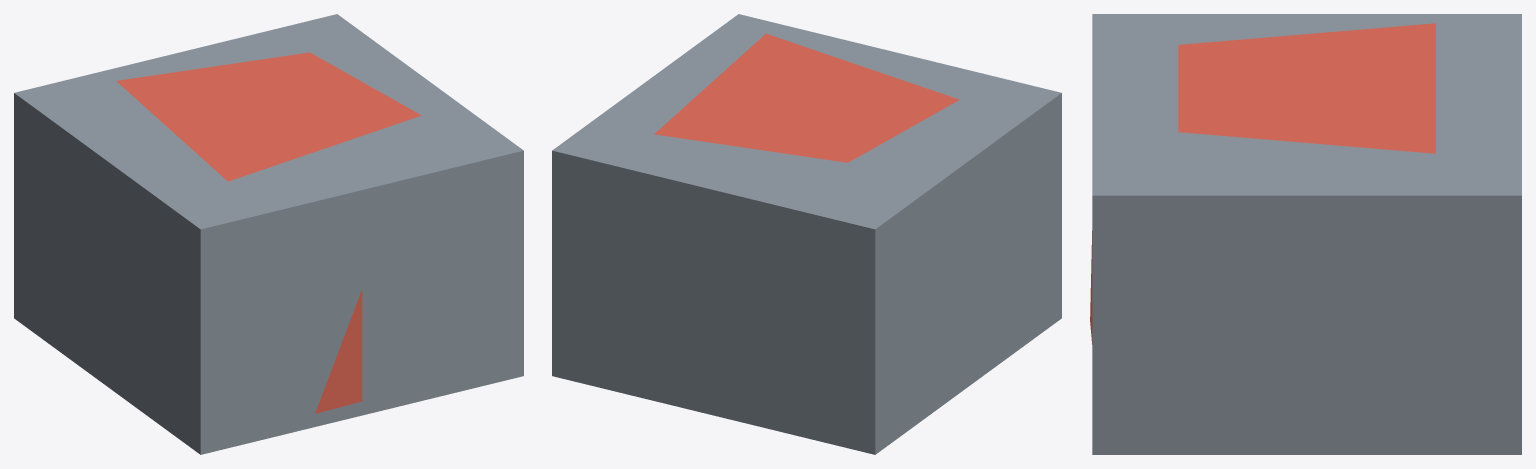
Rendered from SU_PowerPlant_LOD1.glb.
3 views of the same model, side by side, from view 1: azimuth 30°, elevation 25°; view 2: azimuth 150°, elevation 25°; view 3: azimuth 270°, elevation 25° (orthographic). The views are drawn at different scales.
Parts seen in each view (by area): view 1: EntranceGate; view 2: EntranceGate; view 3: EntranceGate.
Part boxes in pixels (<box>): EntranceGate: <box>14,14,523,454</box>; EntranceGate: <box>552,14,1061,454</box>; EntranceGate: <box>1090,14,1521,454</box>.
Size of the model in its own units: 600 by 442 by 603.
